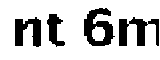6: (82, 5, 115, 50)
m: (117, 15, 160, 52)
n: (11, 17, 43, 50)
t: (45, 9, 67, 48)
